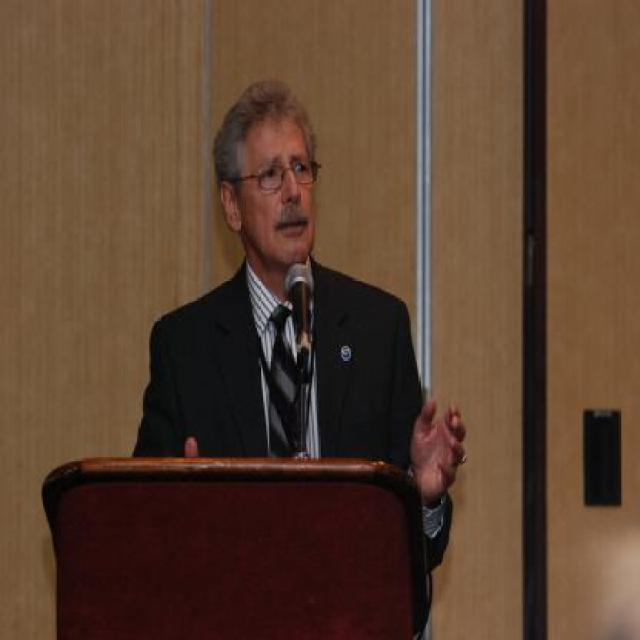Person: (139, 76, 466, 587)
